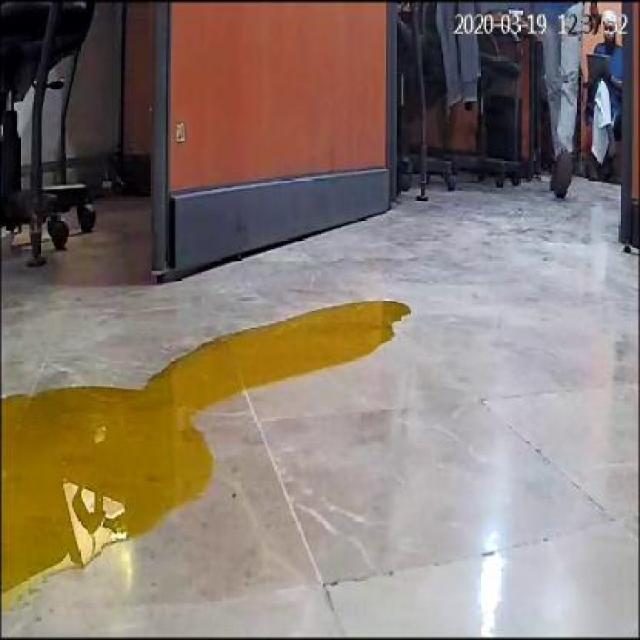spill: (3, 296, 411, 610)
